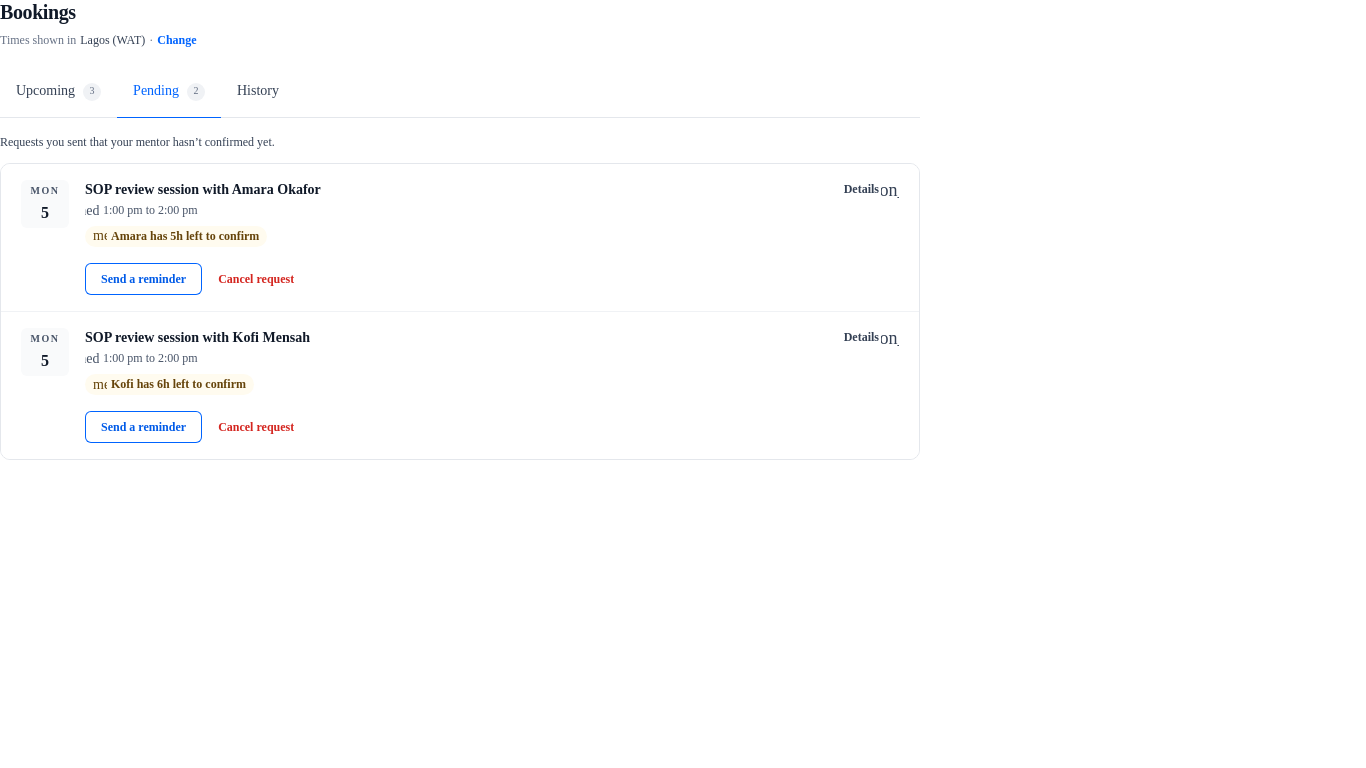
Scenario: the actions appear only where they can succeed › Send a reminder (under 24 hours left for the mentor) › a reminder sent on one row stays sent when another row’s dialog opens
Click the button "Send a reminder" below "Amara has 5h left to confirm".
click(144, 279)  # box [85,263,202,295]
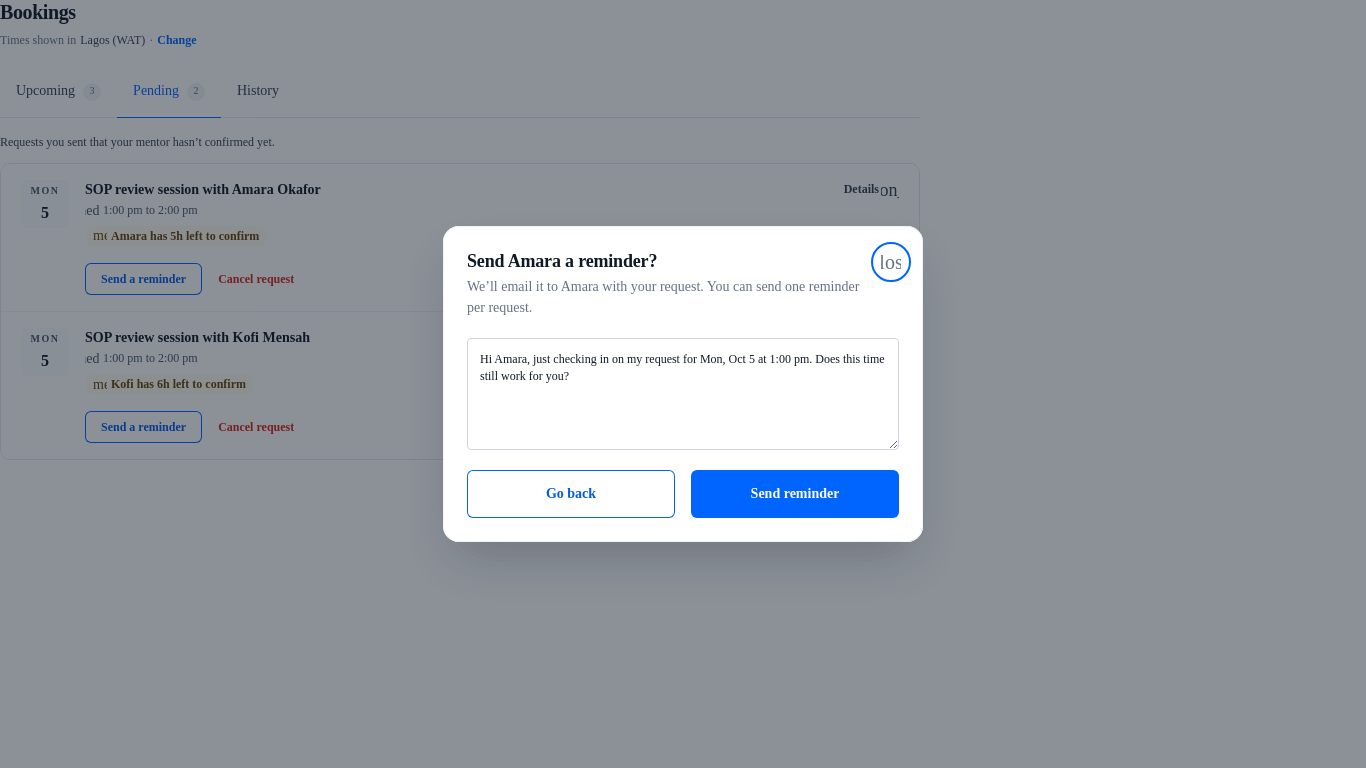
Click the button "Send reminder".
click(795, 494)  # box [691,470,899,518]
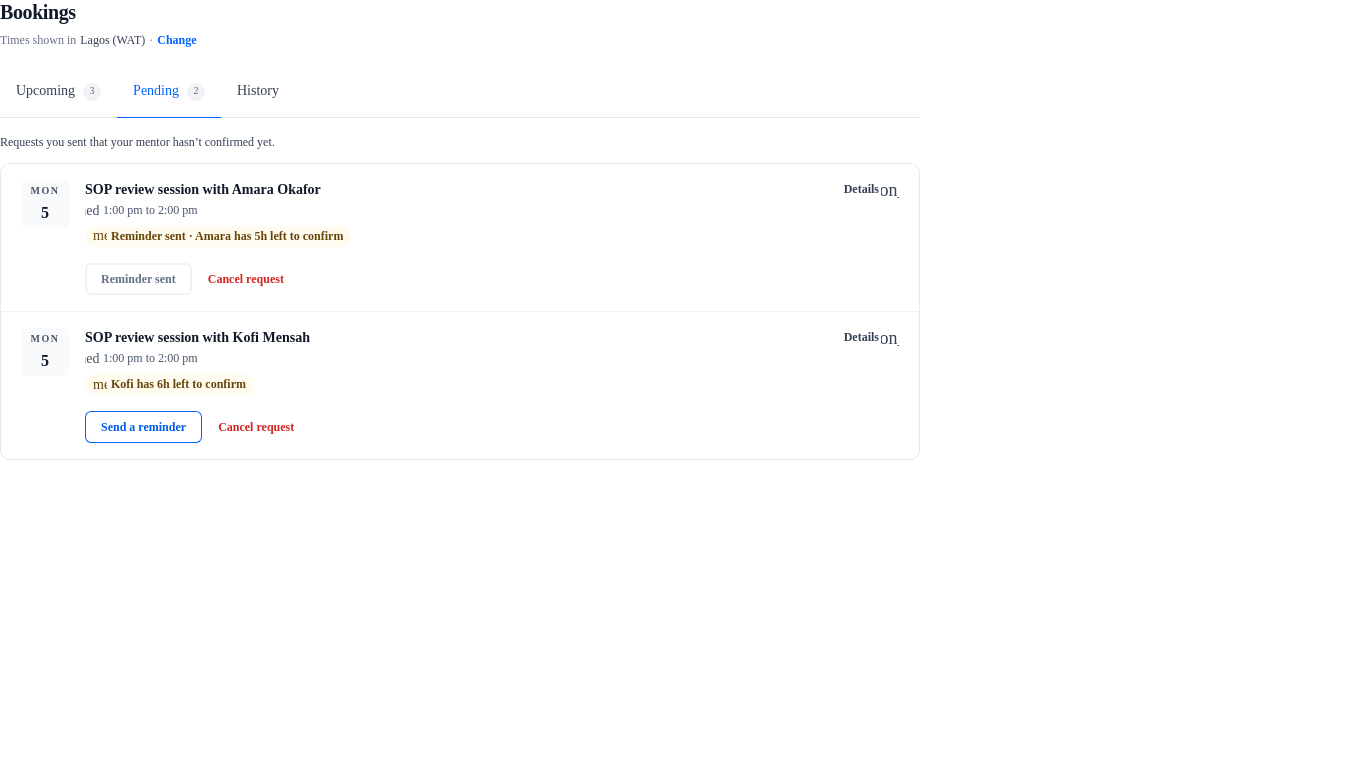
Expected: the text "timer Reminder sent · Amara has 5h left to confirm" is shown, [85,226,351,247]
Click the button "Send a reminder".
click(144, 427)  # box [85,411,202,443]
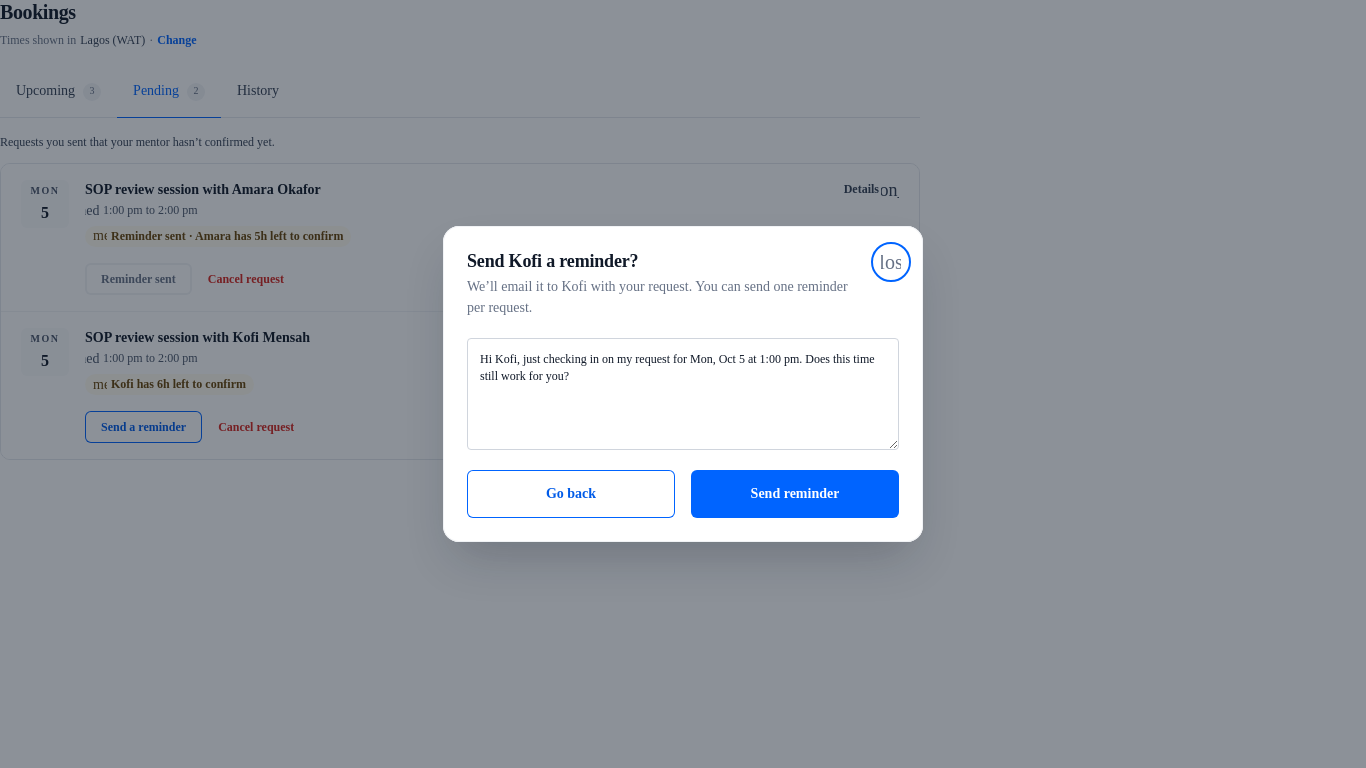
Result: the button "Reminder sent" is disabled at [85,263,192,295]
Result: the heading "Send Kofi a reminder?" is shown at [467,251,638,271]
